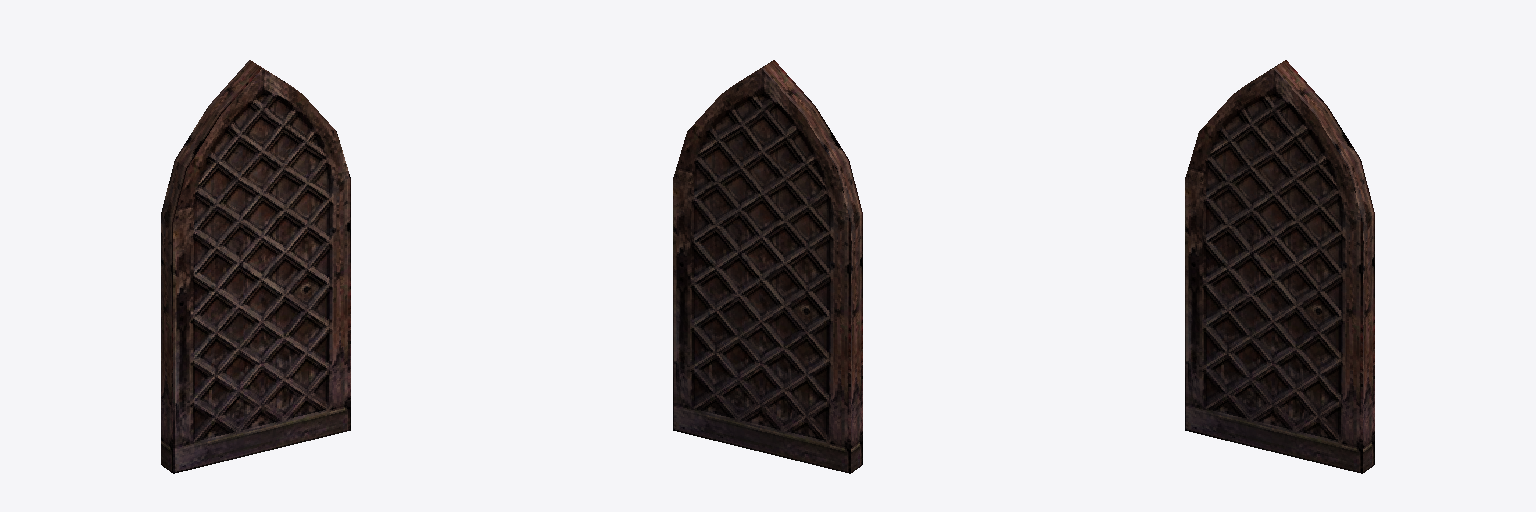
The picture shows the model from 3 angles: view 1: azimuth 30°, elevation 25°; view 2: azimuth 150°, elevation 25°; view 3: azimuth 330°, elevation 25°; orthographic projection.
Parts seen in each view (by area): view 1: Object002; view 2: Object002; view 3: Object002.
Boxes of the visible parts, box(x1,y1,x2,y2) form: Object002: box(161, 60, 350, 473); Object002: box(673, 60, 862, 473); Object002: box(1185, 60, 1374, 473).
Size of the model in its own units: 909 by 1874 by 109.
1 materials, 1 textured.